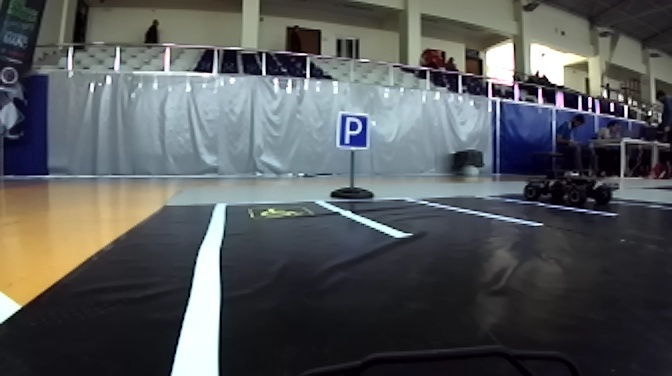park: (339, 113, 371, 152)
